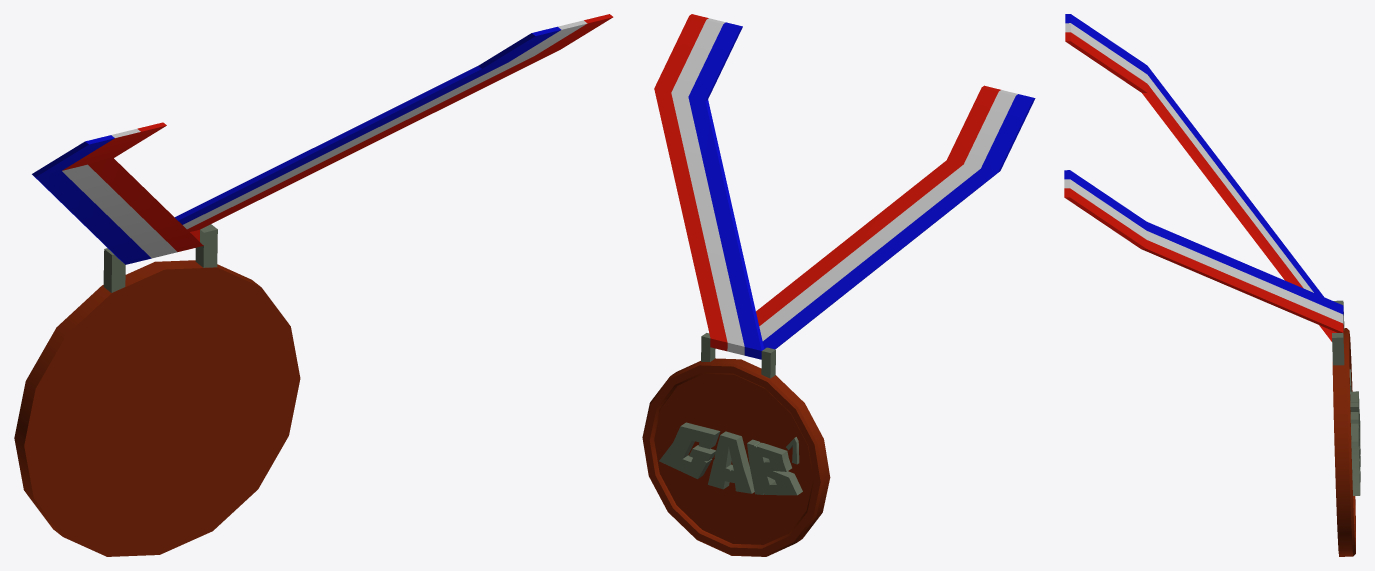
Rendered from medal_gab_1.obj.
3 views of the same model, side by side, from view 1: azimuth 30°, elevation 25°; view 2: azimuth 150°, elevation 25°; view 3: azimuth 270°, elevation 25° (orthographic). The views are drawn at different scales.
Parts seen in each view (by area): view 1: 1, 2, 3, 4, 0; view 2: 1, 2, 4, 3, 0; view 3: 3, 2, 4, 1, 0.
Boxes of the visible parts, x1,y1,x2,y2 form: 1: [14, 260, 300, 556]; 2: [32, 26, 561, 264]; 3: [62, 14, 613, 251]; 4: [62, 20, 587, 258]; 0: [103, 224, 217, 292]; 1: [642, 358, 830, 556]; 2: [688, 22, 1035, 359]; 4: [671, 18, 1017, 355]; 3: [654, 14, 1000, 351]; 0: [659, 333, 802, 495]; 3: [1064, 32, 1343, 341]; 2: [1064, 14, 1343, 315]; 4: [1064, 23, 1343, 324]; 1: [1332, 328, 1355, 556]; 0: [1332, 300, 1360, 495].
Bounding box in the file's own units: 0.235 × 0.2633 × 0.1604.
